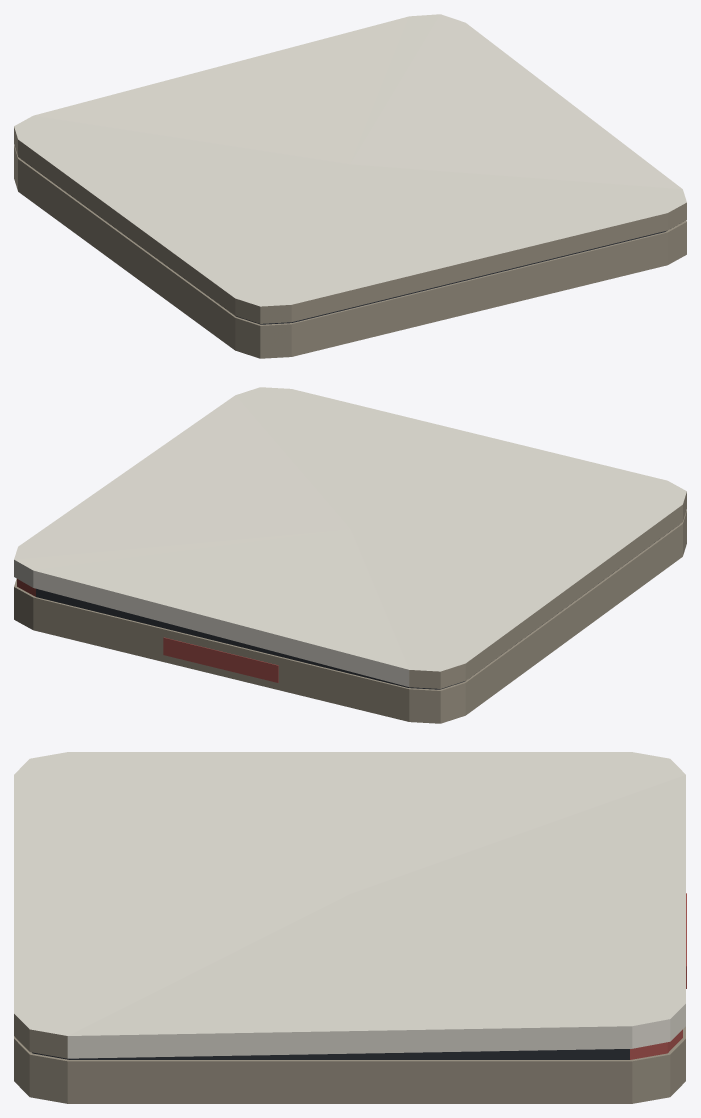
Rendered from pizza_box.glb.
3 renders of one model, top to bottom at view 1: azimuth 30°, elevation 25°; view 2: azimuth 150°, elevation 25°; view 3: azimuth 270°, elevation 25°, orthographic. The views are drawn at different scales.
Visible parts, largest first — view 1: pizza_box; view 2: pizza_box; view 3: pizza_box.
Part boxes in pixels (left/top/right/bottom): pizza_box: left=14, top=14, right=686, bottom=358; pizza_box: left=14, top=387, right=686, bottom=723; pizza_box: left=14, top=752, right=686, bottom=1103.
Size of the model in its own units: 0.3495 by 0.0449 by 0.35.
